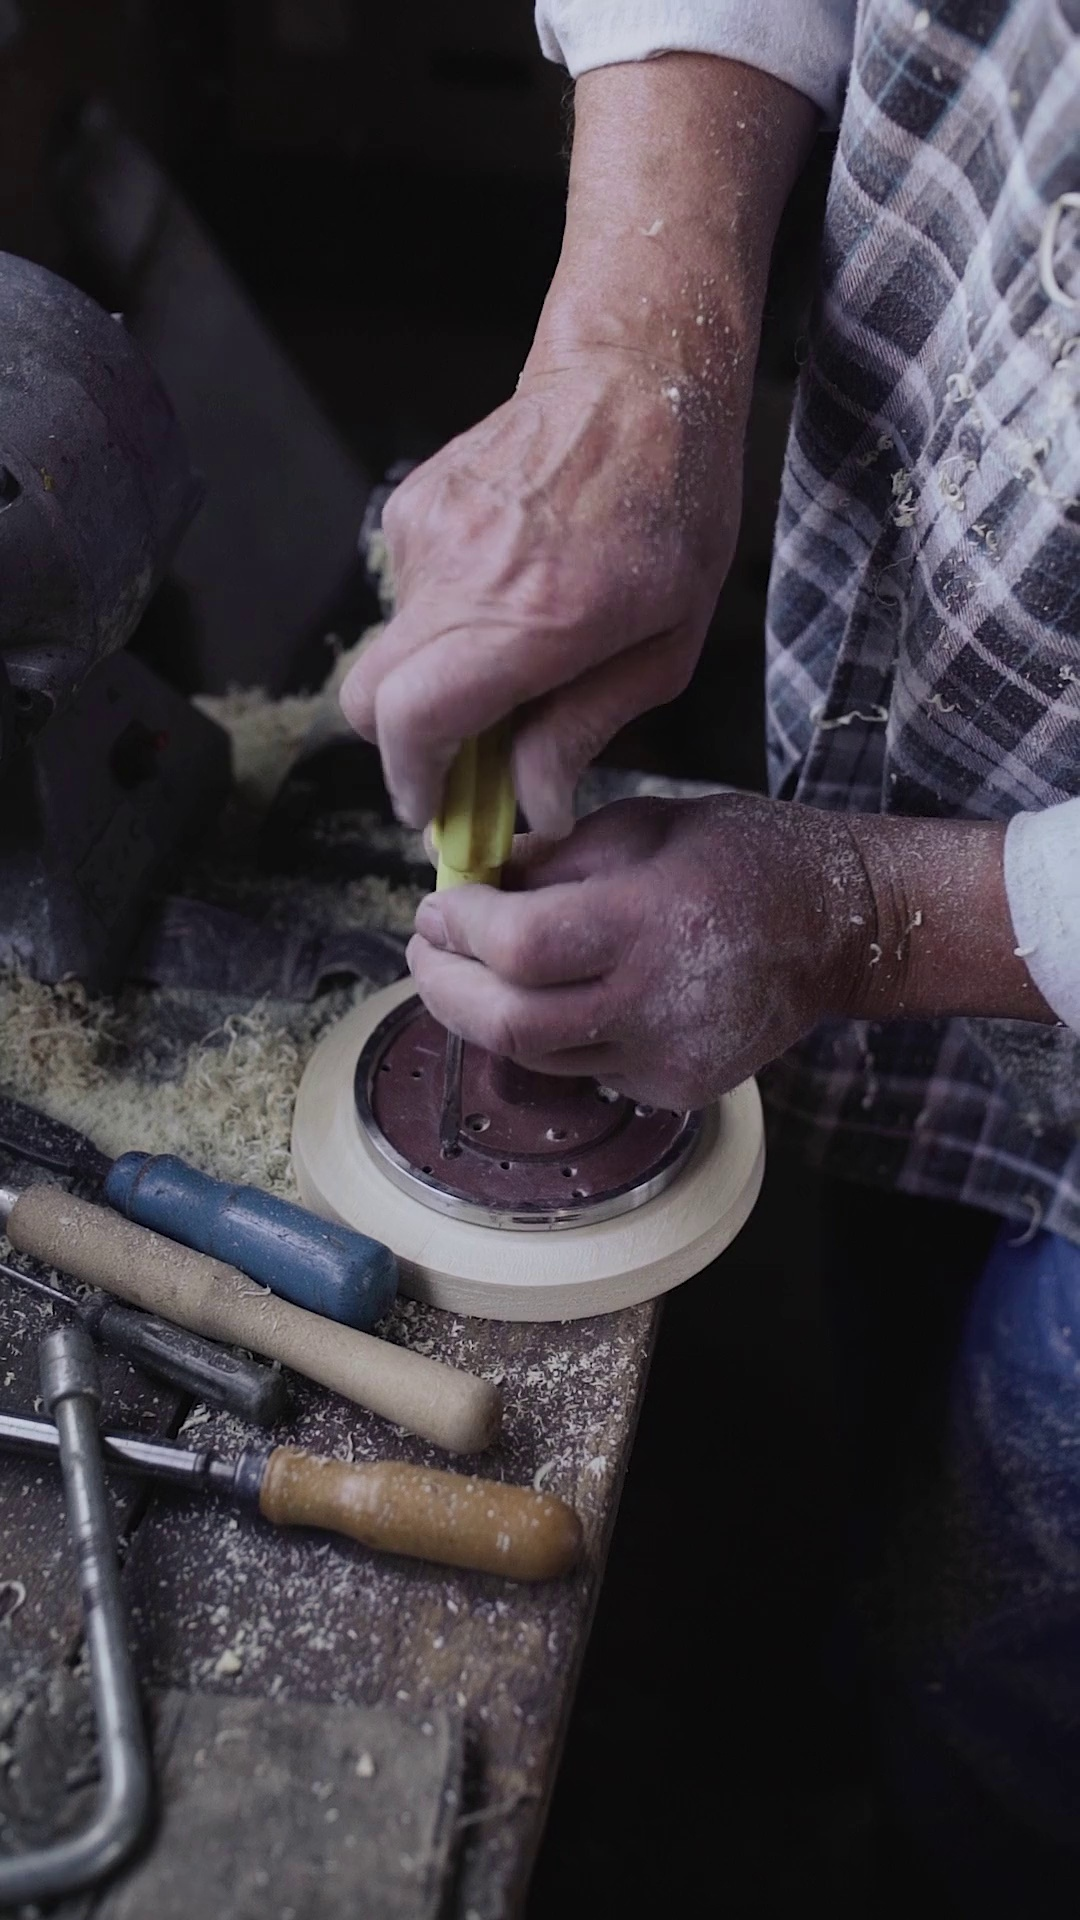screwdriver: (430, 700, 535, 1154)
